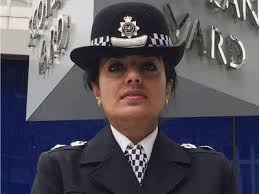indian_female: (80, 36, 188, 132)
